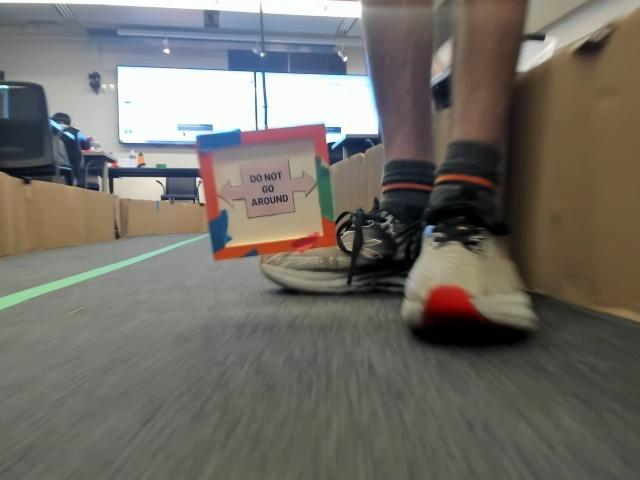Do Not Go Around: (214, 169, 312, 222)
